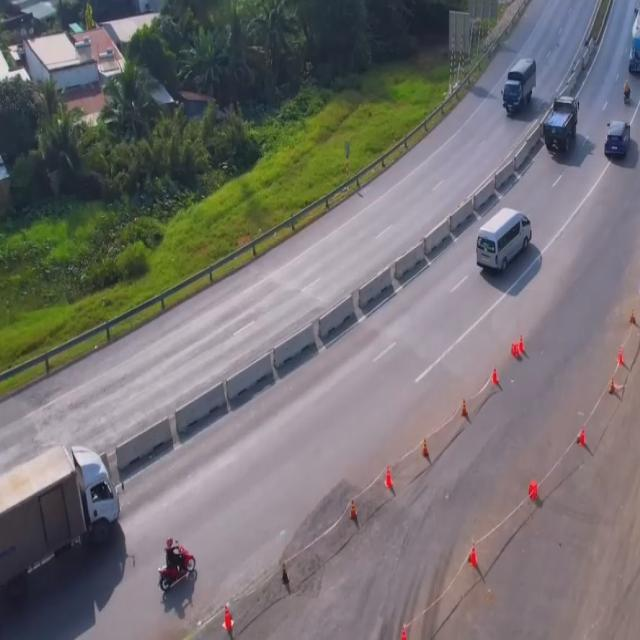car: (476, 207, 535, 277), (604, 119, 631, 161)
motorbike: (153, 538, 196, 598), (622, 80, 632, 104)
truck: (0, 447, 121, 585), (543, 96, 579, 162), (503, 58, 536, 120), (629, 1, 640, 77)
